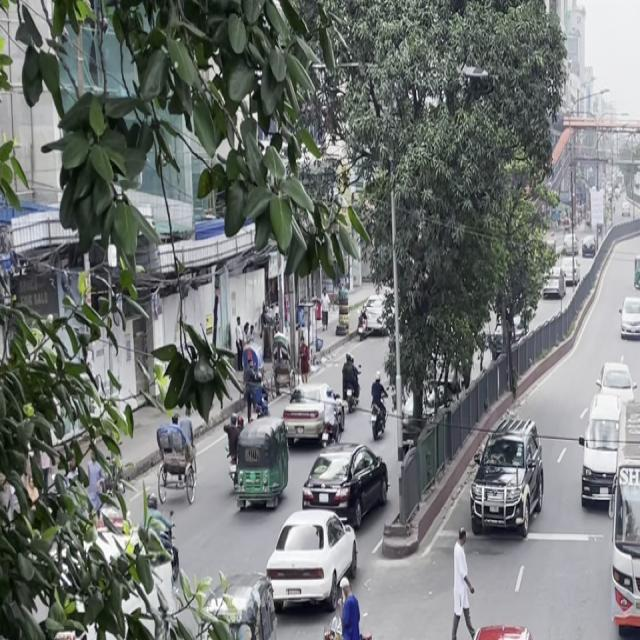bicycle: (308, 573, 386, 640)
bus: (607, 408, 640, 640)
car: (462, 406, 548, 546), (263, 503, 361, 622), (298, 440, 393, 561), (574, 385, 627, 519), (434, 613, 559, 640), (617, 291, 640, 348)
rickshaw: (183, 568, 284, 640), (230, 413, 291, 521)
